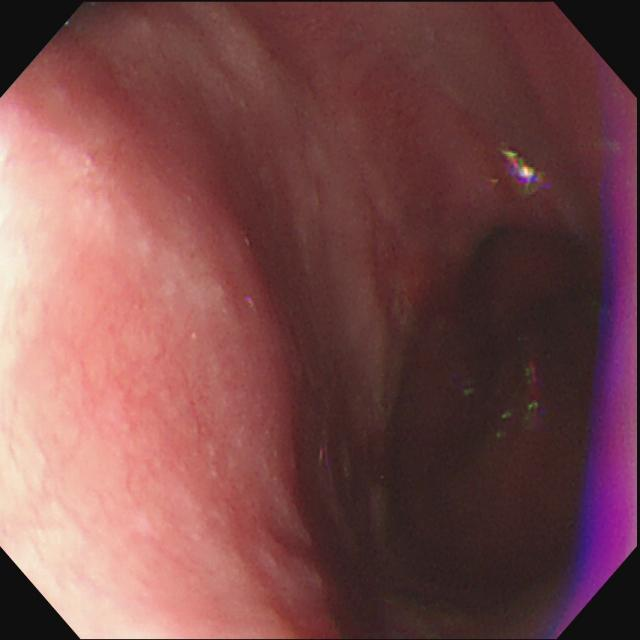U: (503, 143, 548, 199)
